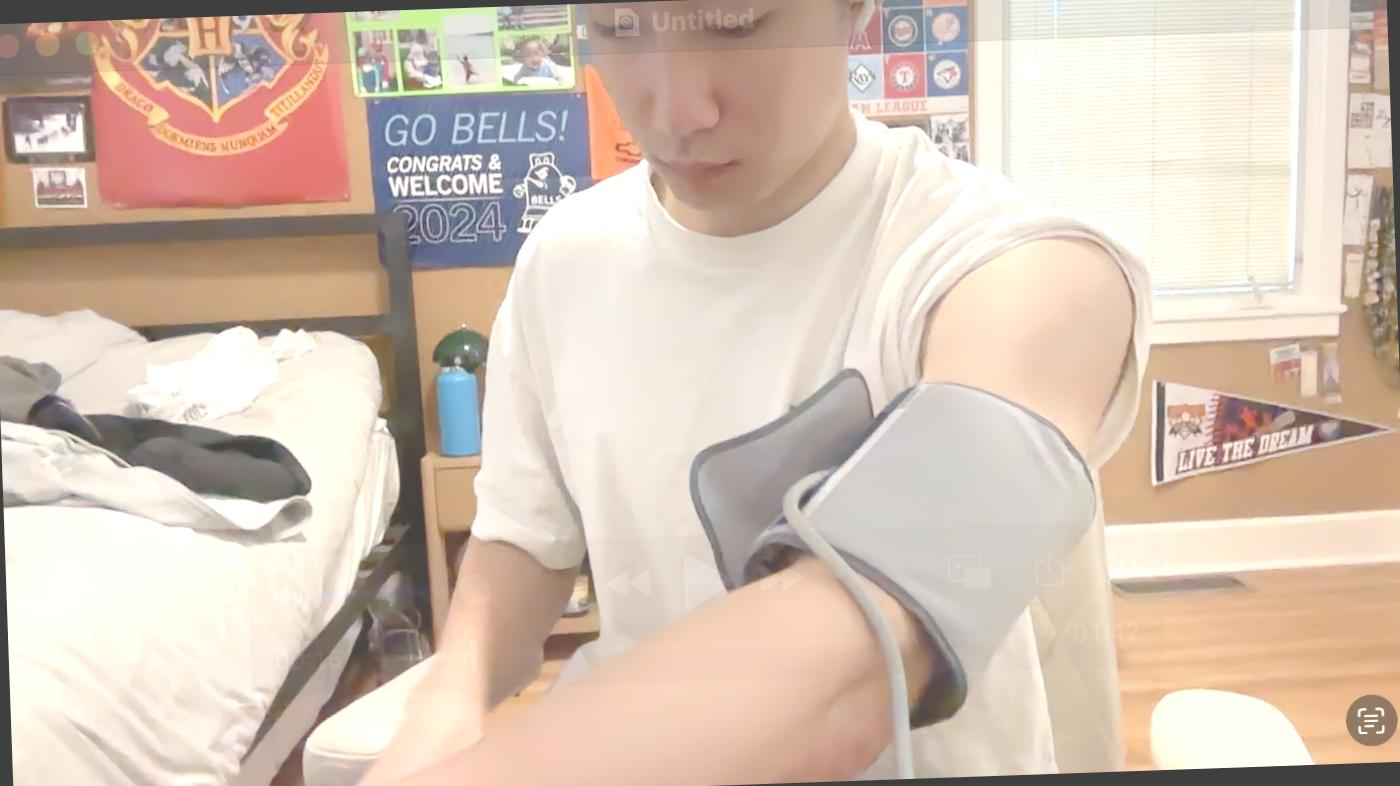cuff: (731, 384, 1101, 717), (782, 384, 1094, 703)
